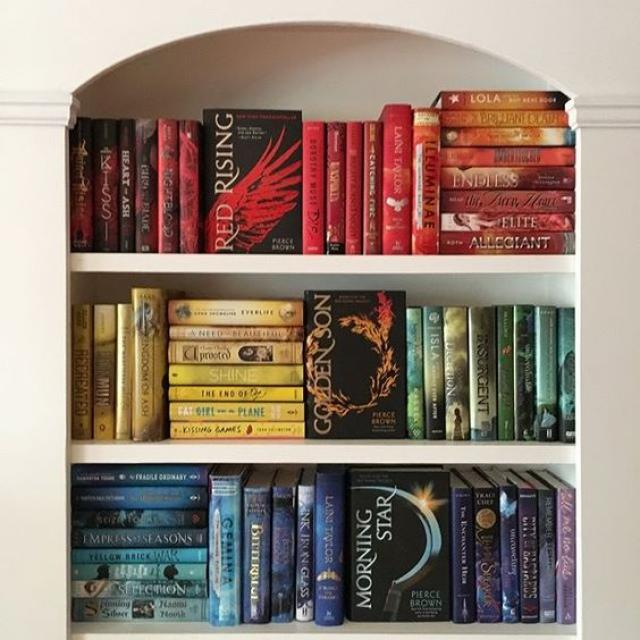book: (209, 474, 241, 626), (315, 472, 343, 626), (132, 289, 159, 440), (385, 106, 412, 253), (414, 109, 440, 254), (469, 307, 497, 441), (443, 304, 470, 440), (91, 119, 117, 252), (242, 490, 268, 622), (168, 300, 302, 325), (72, 486, 208, 510), (477, 490, 501, 623), (72, 598, 207, 621), (135, 119, 158, 252), (167, 341, 302, 363), (514, 305, 536, 440), (536, 306, 558, 441), (452, 488, 474, 623), (272, 489, 294, 624), (440, 232, 574, 254), (69, 118, 90, 253), (158, 119, 179, 252), (303, 122, 324, 254), (441, 191, 577, 211), (442, 168, 576, 188), (424, 306, 444, 439), (178, 122, 198, 252), (72, 304, 91, 440), (363, 120, 382, 255), (501, 487, 520, 622), (95, 306, 114, 440), (557, 490, 576, 623), (296, 485, 314, 620), (72, 580, 207, 598), (168, 366, 302, 384), (520, 491, 538, 624), (326, 122, 344, 254), (72, 529, 208, 546), (559, 308, 576, 443), (170, 404, 304, 421), (442, 149, 575, 166), (407, 308, 424, 440), (442, 213, 572, 230), (441, 110, 569, 127), (497, 306, 513, 441), (170, 422, 304, 438), (72, 511, 205, 527), (346, 122, 362, 254), (539, 491, 555, 623), (71, 564, 206, 579), (73, 468, 208, 483), (441, 92, 567, 108), (169, 386, 303, 401), (169, 326, 303, 341), (442, 130, 575, 145), (117, 304, 131, 440), (119, 118, 133, 252), (72, 549, 207, 562)
